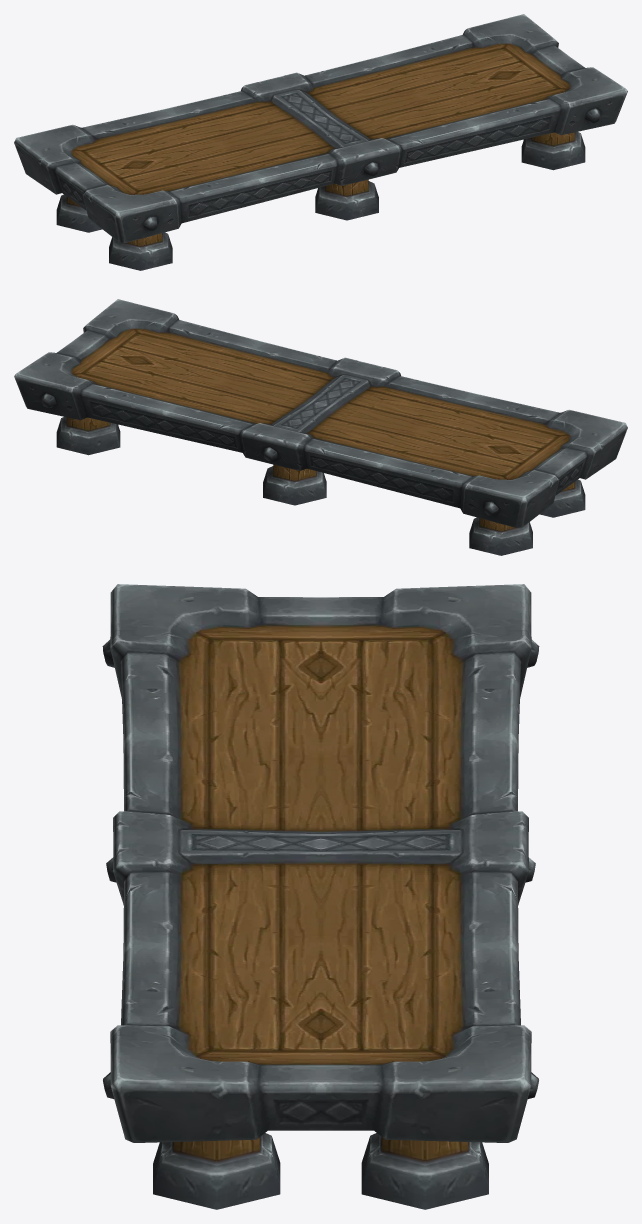
3 views of the same model, one above another, from view 1: azimuth 30°, elevation 25°; view 2: azimuth 150°, elevation 25°; view 3: azimuth 270°, elevation 25° (orthographic). The views are drawn at different scales.
Size of the model in its own units: 6.13 by 0.8302 by 2.26.
Materials: 1 (1 with a texture image).
